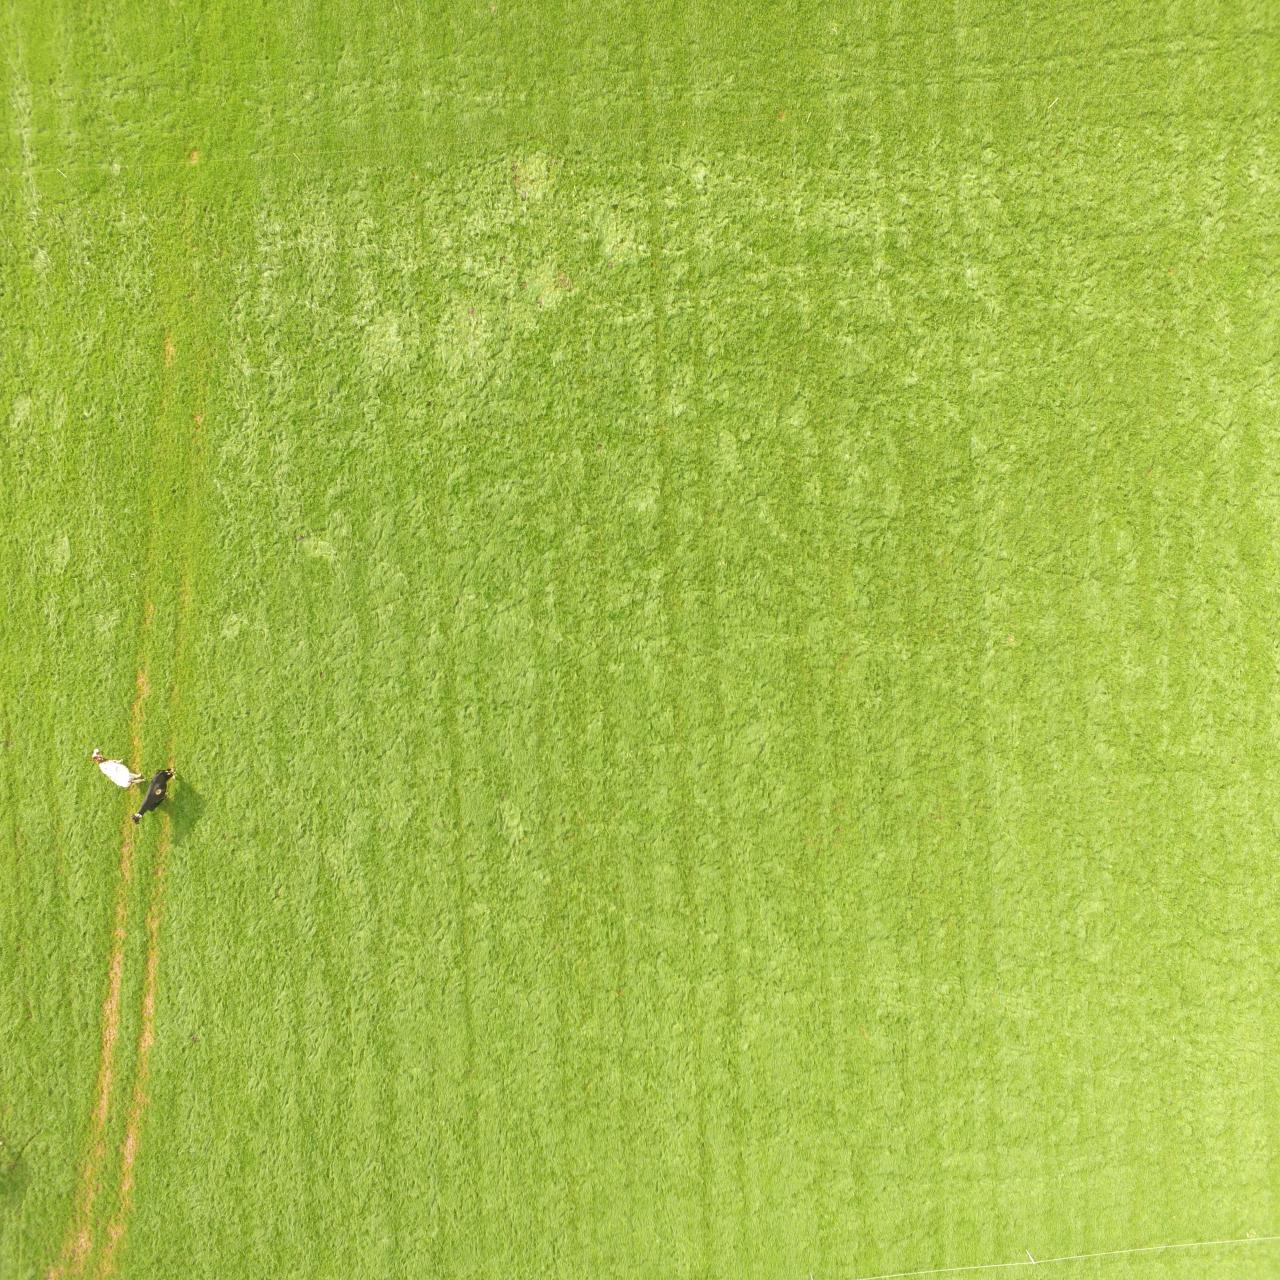cow: (132, 769, 179, 825), (90, 747, 147, 789)
